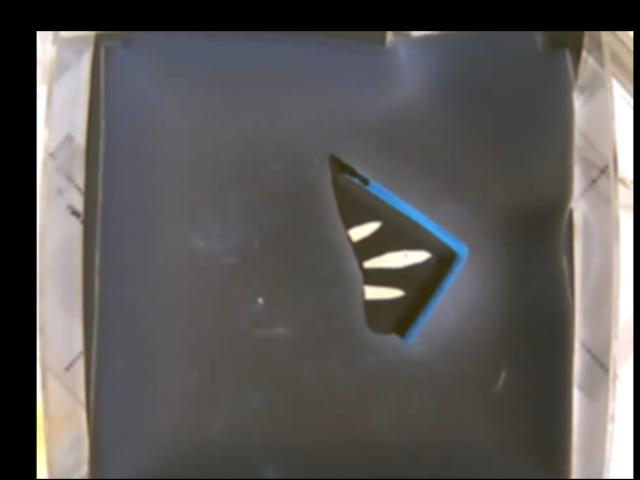China: (323, 151, 467, 337)
